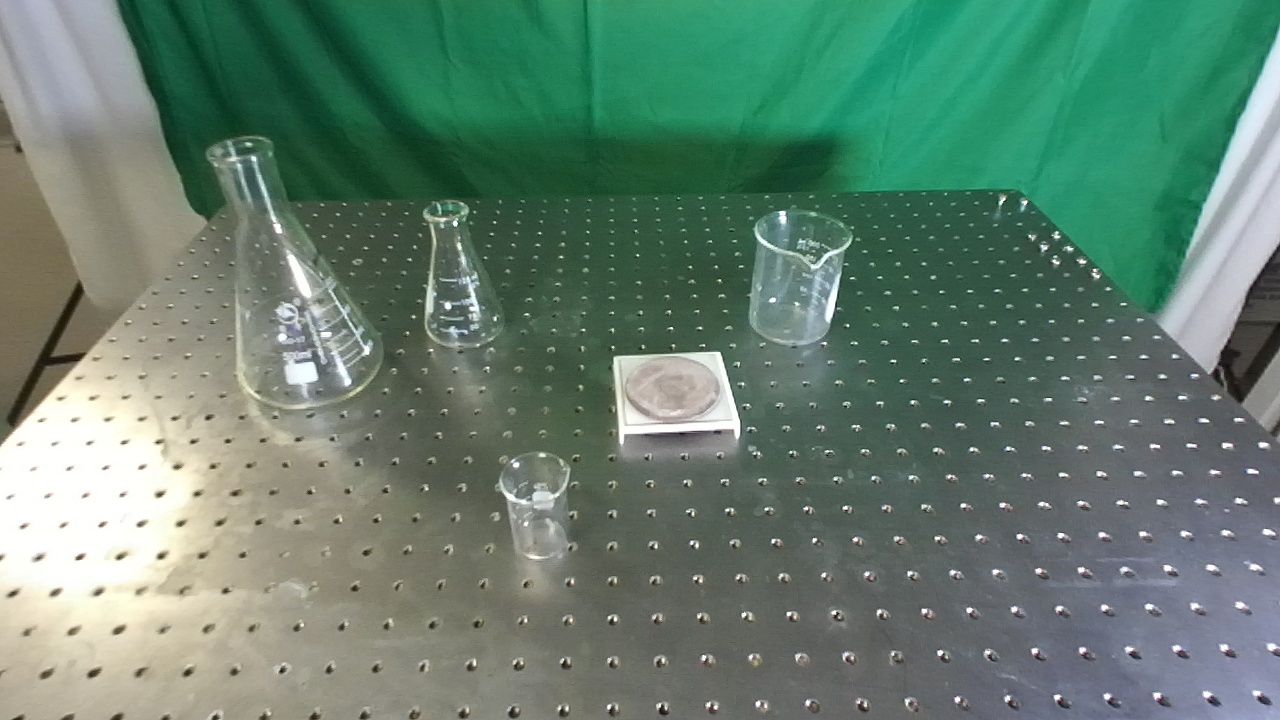glass: (203, 131, 387, 413), (746, 210, 855, 349), (421, 194, 509, 351), (494, 451, 575, 564)
plate: (609, 347, 743, 450)
